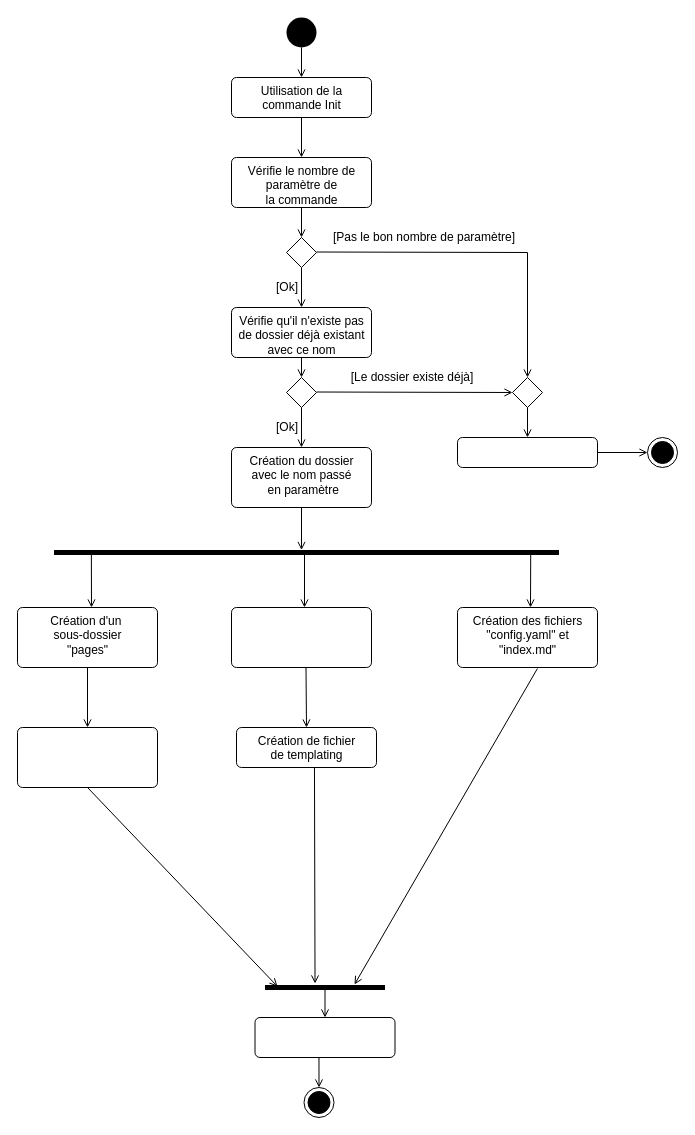
This 695x1135 diagram has some shape labels left out. Here are the shapes that lost their labels. From the top down, the centre of each, then its label:
pixel 527 452: Crash de la commande
pixel 301 637: Création d'un sous-dossier "template"
pixel 87 757: Création d'une page au format markdown
pixel 324 1037: Affiche le message "Website initialized."
